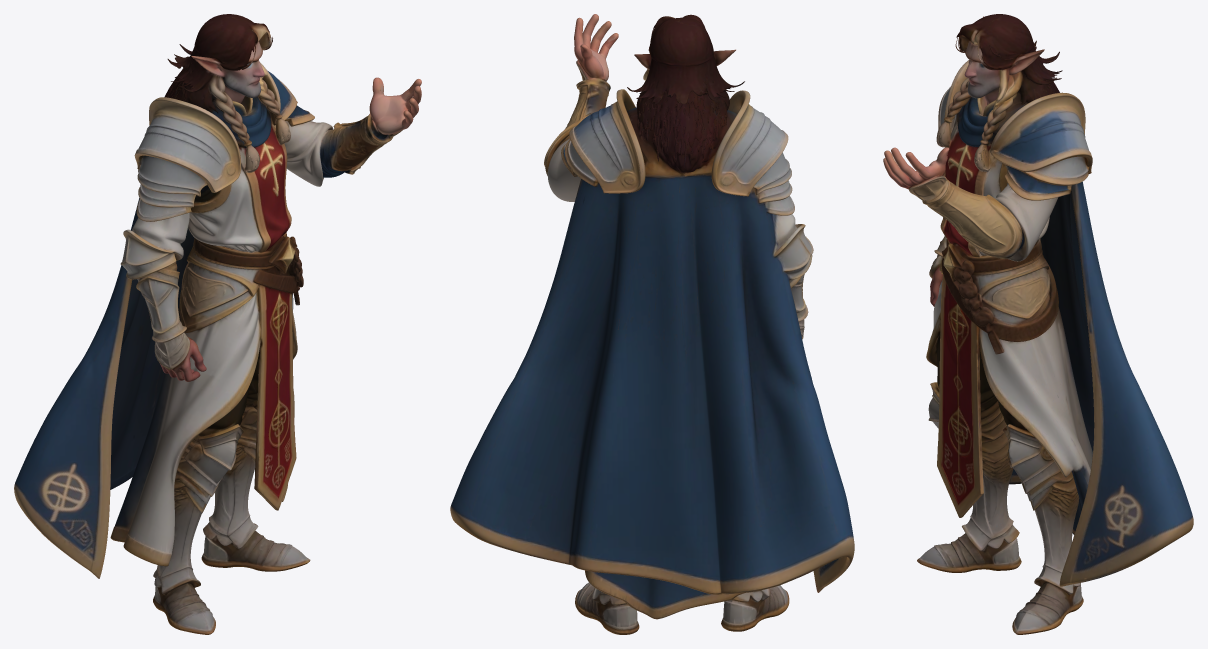
Rendered from half_elf_cleric_full_male_01.glb.
The picture shows the model from 3 angles, left to right: view 1: azimuth 30°, elevation 25°; view 2: azimuth 150°, elevation 25°; view 3: azimuth 270°, elevation 25°; orthographic projection. The views are drawn at different scales.
Parts seen in each view (by area): view 1: material; view 2: material; view 3: material.
Part boxes in pixels (x1,y1,x2,y2): material: [14, 14, 421, 634]; material: [450, 14, 854, 634]; material: [883, 14, 1193, 634].
Size of the model in its own units: 0.6853 by 1.12 by 0.5468.
1 material, 1 textured.
